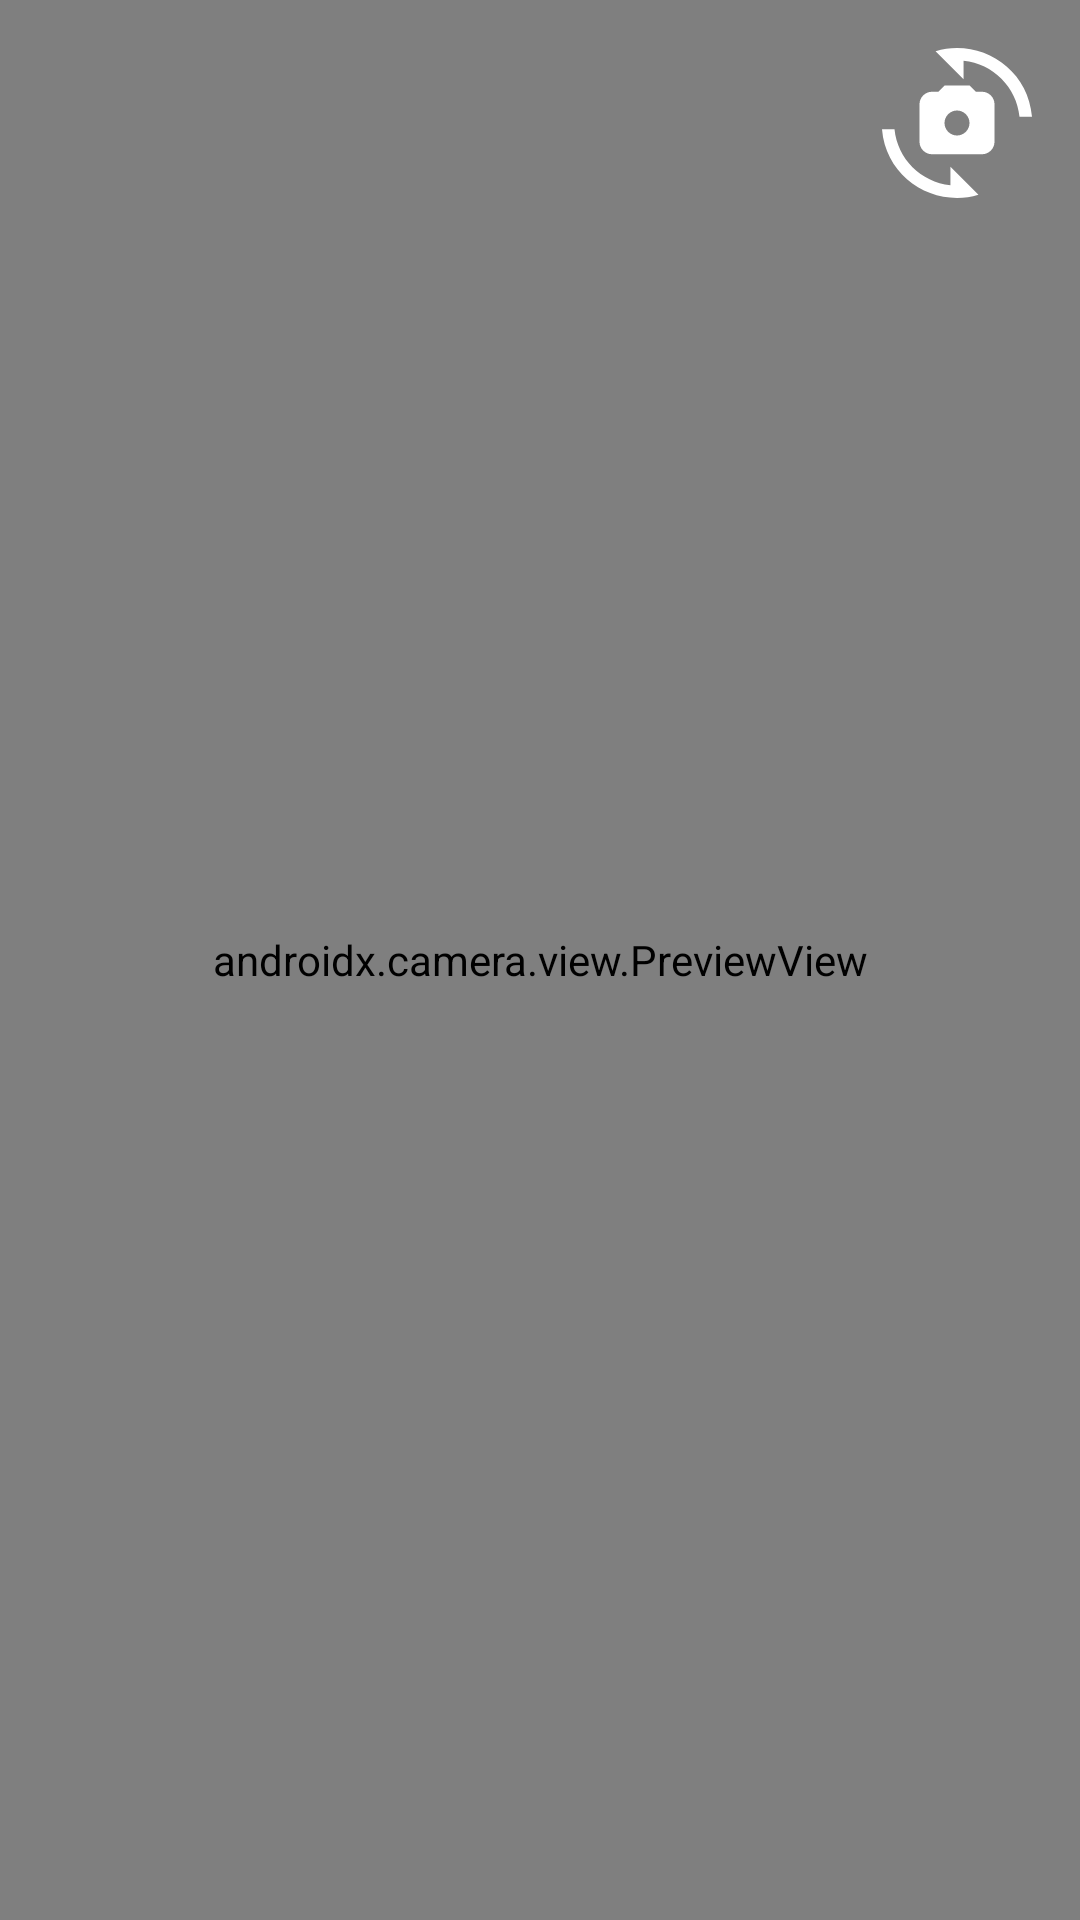

Where icons sit on this 1080 × 1920 app screen, as Rect(x1, y1, x2, y2):
switch camera: Rect(882, 48, 1032, 198)
